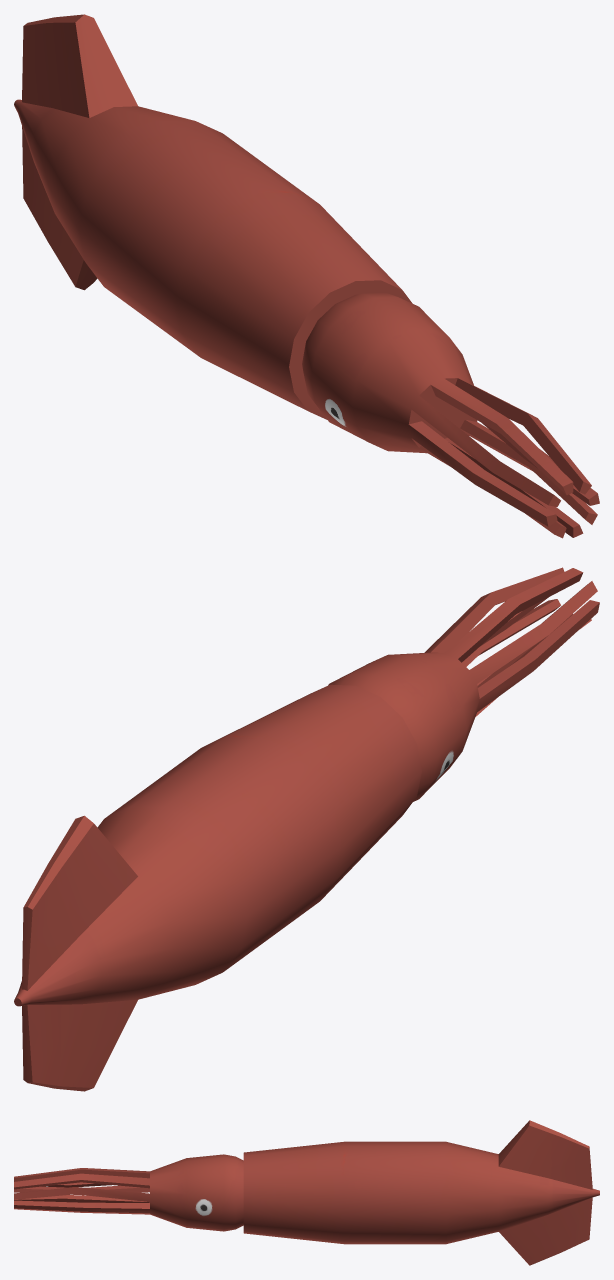
The model's file is Squid.fbx.
3 renders of one model, top to bottom at view 1: azimuth 30°, elevation 25°; view 2: azimuth 150°, elevation 25°; view 3: azimuth 270°, elevation 25°, orthographic. The views are drawn at different scales.
Visible parts, largest first — view 1: Cylinder; view 2: Cylinder; view 3: Cylinder.
Part boxes in pixels (<box>): Cylinder: <box>14,14,599,538</box>; Cylinder: <box>14,567,599,1091</box>; Cylinder: <box>14,1120,599,1265</box>.
Bounding box in the file's own units: 282 × 442 × 1611.
